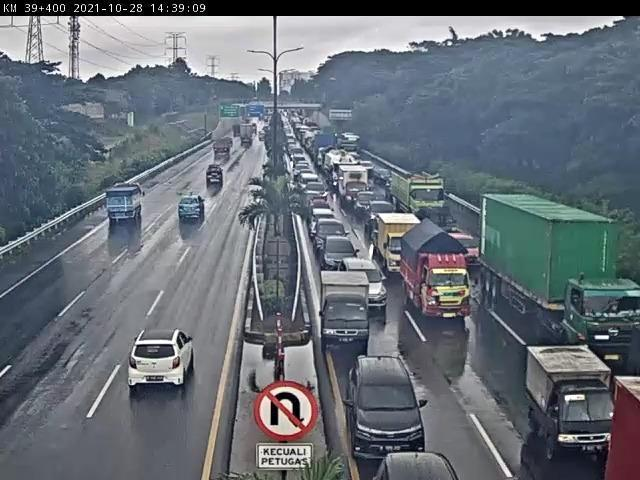car: (114, 318, 217, 405), (349, 341, 421, 447), (322, 279, 380, 348), (440, 220, 483, 283), (322, 232, 360, 279), (170, 196, 209, 235), (315, 219, 356, 252), (197, 168, 230, 203), (367, 200, 392, 226), (312, 208, 340, 227)
truck: (520, 213, 640, 355), (524, 350, 623, 460), (409, 231, 479, 328), (321, 271, 374, 348), (367, 212, 429, 275), (402, 176, 450, 219), (100, 184, 140, 235)
